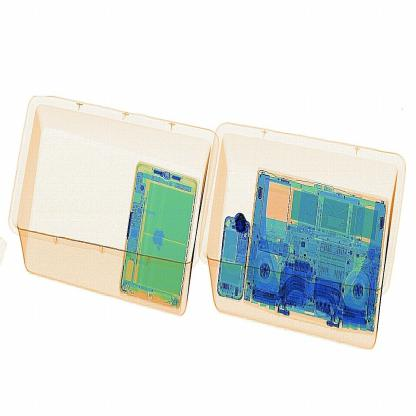scissors: (232, 212, 256, 240)
